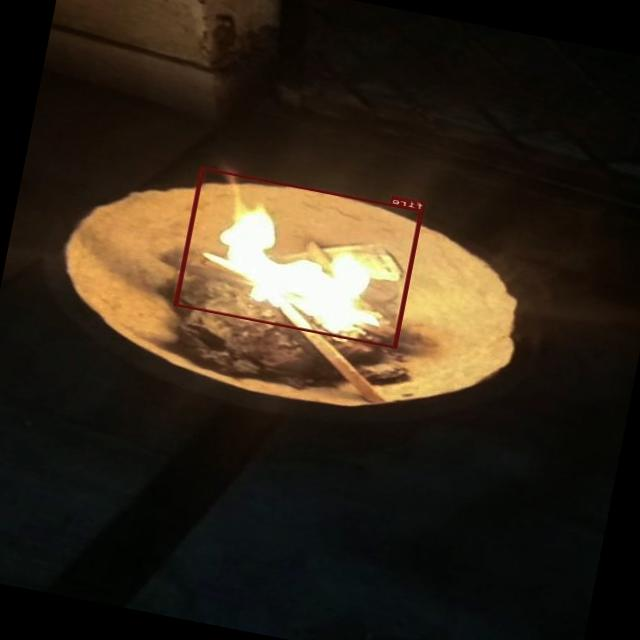fire: (174, 166, 424, 348)
